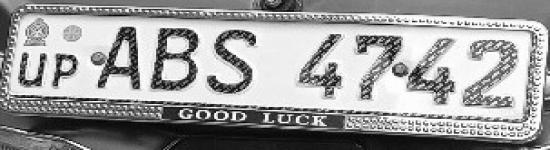2: (460, 33, 521, 113)
4: (285, 29, 350, 102), (406, 33, 462, 111)
7: (352, 26, 406, 106)
A: (90, 20, 147, 92)
B: (146, 21, 204, 98)
P: (51, 49, 83, 93)
S: (200, 26, 270, 97)
U: (16, 49, 51, 92)
